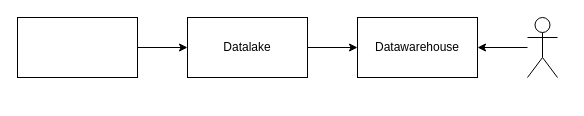
This 584x116 diagram has some shape labels left out. Each missing label, with the box of its shape:
API: (16, 16, 138, 78)
End user: (526, 16, 558, 78)
